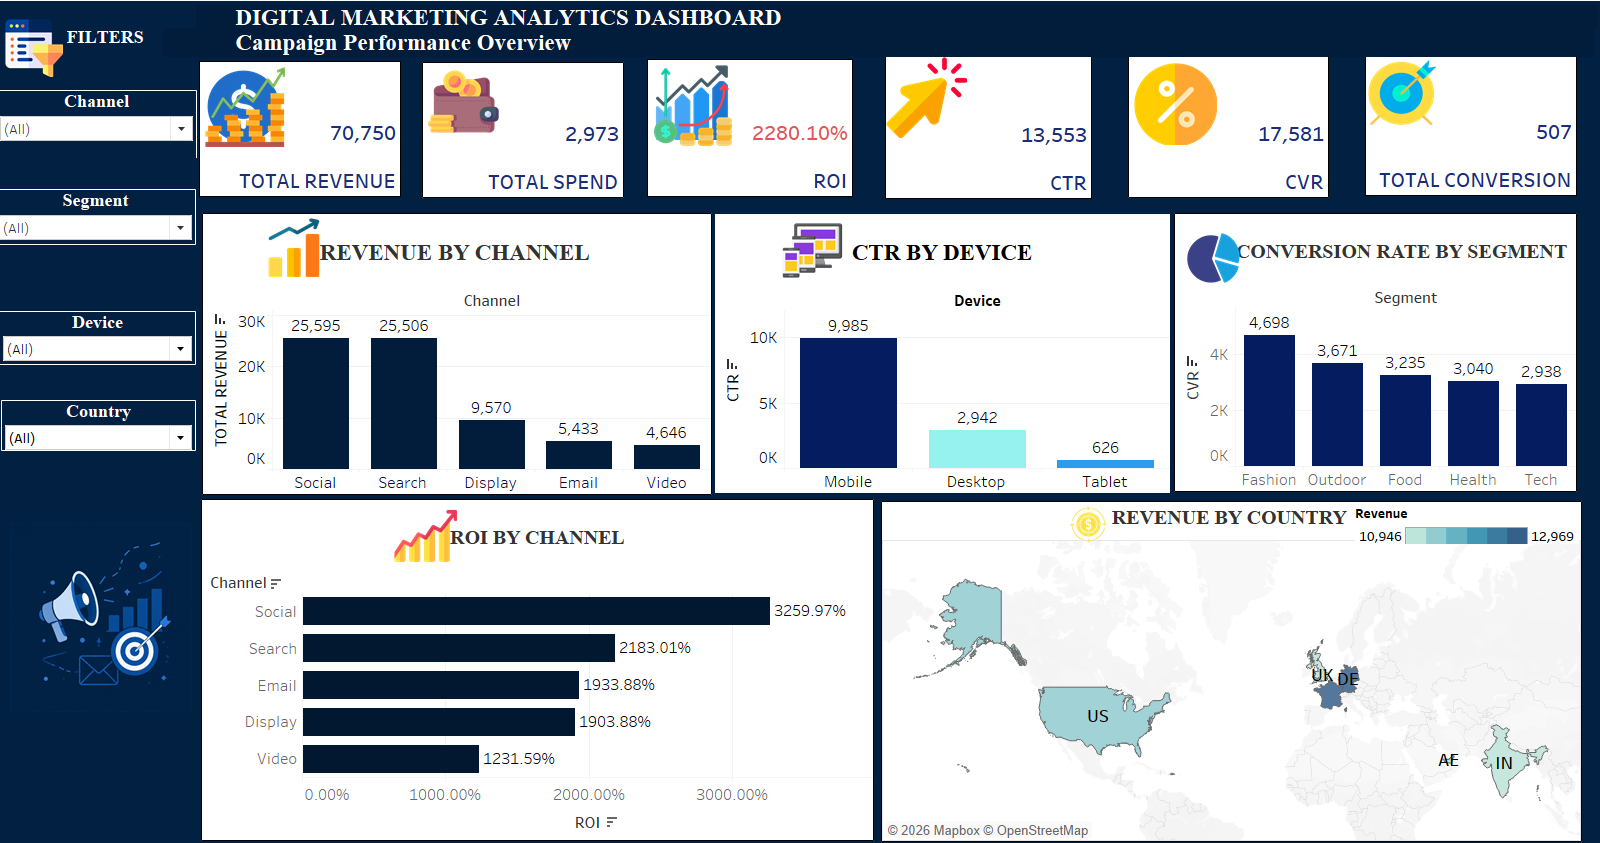

Layout of this report page (visuals, bound fields, positions):
{"tool":"tableau","page":{"name":"Dashboard 2","canvas":[1000,1000],"units":"permille","ordinal":1},"visuals":[{"type":"title","box":[4.9,10,990.1,39.9]},{"type":"text","box":[163,43.6,821.6,44.9]},{"type":"image","param":"Image/filter (1).png","box":[13.6,67.3,39.5,76.1]},{"type":"text","box":[48.8,73.6,65.4,52.4]},{"type":"worksheet","title":"Sheet 15","mark":"Automatic","box":[599.4,97.3,126.5,147.1]},{"type":"worksheet","title":"Sheet 16","mark":"Automatic","box":[731.5,97.3,123.5,145.9]},{"type":"worksheet","title":"Sheet 17","mark":"Automatic","box":[859.3,97.3,129.6,144.6]},{"type":"worksheet","title":"Sheet 14","mark":"Automatic","box":[449.4,98.5,142,145.9]},{"type":"image","param":"Image/speaker.png","box":[449.4,98.5,85.2,97.3]},{"type":"image","param":"Image/responsive-design.png","box":[601.9,98.5,46.3,87.3]},{"type":"image","param":"Image/interactive.png","box":[860.5,98.5,59.9,93.5]},{"type":"image","param":"Image/channel.png","box":[862.4,98.5,76.5,102.2]},{"type":"worksheet","title":"Sheet 12","mark":"Automatic","box":[166.1,99.8,132.1,147.1]},{"type":"worksheet","title":"Sheet 13","mark":"Automatic","box":[305.6,99.8,135.8,145.9]},{"type":"image","param":"Image/responsive (1).png","box":[601.9,99.8,67.3,98.5]},{"type":"image","param":"Image/world.png","box":[733.3,99.8,57.4,96]},{"type":"image","param":"Image/impression.png","box":[306.8,101,58,98.5]},{"type":"image","param":"Image/social-media-marketing.png","box":[451.9,103.5,58,91]},{"type":"image","param":"Image/airplane.png","box":[735.8,103.5,48.8,77.3]},{"type":"image","param":"Image/tap.png","box":[171,104.7,58.6,98.5]},{"type":"image","param":"Image/marketing.png","box":[453.1,106,59.3,91]},{"type":"filter","title":"Sheet 22","param":"[federated.1ct586s1gfhmox1gll9d407dz4eg].[none:channel:nk]","box":[8,170.8,147.5,81]},{"type":"image","param":"Image/impressions.png","box":[187,261.9,37.6,46.1]},{"type":"worksheet","title":"Sheet 18","mark":"Bar","rows":["channel"],"cols":["impressions"],"box":[164.2,263.1,260.5,395.3]},{"type":"worksheet","title":"Sheet 19","mark":"Bar","rows":["clicks"],"cols":["device"],"box":[427.8,263.1,184,391.5]},{"type":"legend","title":"Sheet 20","param":"[federated.1ct586s1gfhmox1gll9d407dz4eg].[sum:impressions:qk]","box":[881.5,263.1,94.4,78.5]},{"type":"image","param":"Image/devices.png","box":[438.3,265.6,24.7,43.6]},{"type":"worksheet","title":"Sheet 20","mark":"Automatic","box":[615.4,265.6,372.8,386.5]},{"type":"image","param":"Image/export.png","box":[824.7,266.8,41.4,43.6]},{"type":"image","param":"Image/worldwide.png","box":[821,268.1,36.4,41.1]},{"type":"filter","title":"Sheet 24","param":"[federated.1ct586s1gfhmox1gll9d407dz4eg].[none:campaign_id:nk]","box":[8,288,149.4,86]},{"type":"filter","title":"Sheet 19","param":"[federated.1ct586s1gfhmox1gll9d407dz4eg].[none:device:nk]","box":[8,405.2,148.8,78.5]},{"type":"filter","title":"Sheet 20","param":"[federated.1ct586s1gfhmox1gll9d407dz4eg].[none:country:nk]","box":[6.2,517.5,151.2,78.5]},{"type":"filter","title":"Sheet 23","param":"[federated.1ct586s1gfhmox1gll9d407dz4eg].[none:segment:nk]","box":[6.2,613.5,151.2,98.5]},{"type":"worksheet","title":"Sheet 23","mark":"Automatic","rows":["segment"],"cols":["impressions"],"box":[166.1,665.8,444.4,311.7]},{"type":"worksheet","title":"Sheet 22","mark":"Pie","box":[614.8,665.8,373.5,309.2]},{"type":"image","param":"Image/demographics.png","box":[272.2,667.1,44.4,59.9]},{"type":"image","param":"Image/user.png","box":[760.5,668.3,36.4,54.9]},{"type":"image","param":"Image/Screenshot 2026-06-14 105338.png","box":[13,736.9,147.5,226.9]},{"type":"legend","title":"Sheet 22","param":"[federated.1ct586s1gfhmox1gll9d407dz4eg].[none:channel:nk]","box":[914.8,785.5,86.4,158.3]},{"type":"worksheet","title":"Sheet 24","mark":"Automatic","box":[23.5,810.5,106.2,68.6]}]}

Visuals, with their boxes on the dashboard's canvas, which has no fixed pixel size, in thousandths of its width and height (x1, y1, x2, y2). These are canvas units, not pixel positions in the 1600x843 screenshot, which may show the page scaled, cropped or inside an application window:
title: 5, 10, 995, 50
text: 163, 44, 985, 88
image: 14, 67, 53, 143
text: 49, 74, 114, 126
"Sheet 15" worksheet: 599, 97, 726, 244
"Sheet 16" worksheet: 732, 97, 855, 243
"Sheet 17" worksheet: 859, 97, 989, 242
"Sheet 14" worksheet: 449, 98, 591, 244
image: 449, 98, 535, 196
image: 602, 98, 648, 186
image: 860, 98, 920, 192
image: 862, 98, 939, 201
"Sheet 12" worksheet: 166, 100, 298, 247
"Sheet 13" worksheet: 306, 100, 441, 246
image: 602, 100, 669, 198
image: 733, 100, 791, 196
image: 307, 101, 365, 200
image: 452, 104, 510, 194
image: 736, 104, 785, 181
image: 171, 105, 230, 203
image: 453, 106, 512, 197
"Sheet 22" filter: 8, 171, 156, 252
image: 187, 262, 225, 308
"Sheet 18" worksheet (Bar marks): 164, 263, 425, 658
"Sheet 19" worksheet (Bar marks): 428, 263, 612, 655
"Sheet 20" legend: 882, 263, 976, 342
image: 438, 266, 463, 309
"Sheet 20" worksheet: 615, 266, 988, 652
image: 825, 267, 866, 310
image: 821, 268, 857, 309
"Sheet 24" filter: 8, 288, 157, 374
"Sheet 19" filter: 8, 405, 157, 484
"Sheet 20" filter: 6, 518, 157, 596
"Sheet 23" filter: 6, 614, 157, 712
"Sheet 23" worksheet: 166, 666, 610, 978
"Sheet 22" worksheet (Pie marks): 615, 666, 988, 975
image: 272, 667, 317, 727
image: 760, 668, 797, 723
image: 13, 737, 160, 964
"Sheet 22" legend: 915, 786, 1001, 944
"Sheet 24" worksheet: 24, 810, 130, 879
